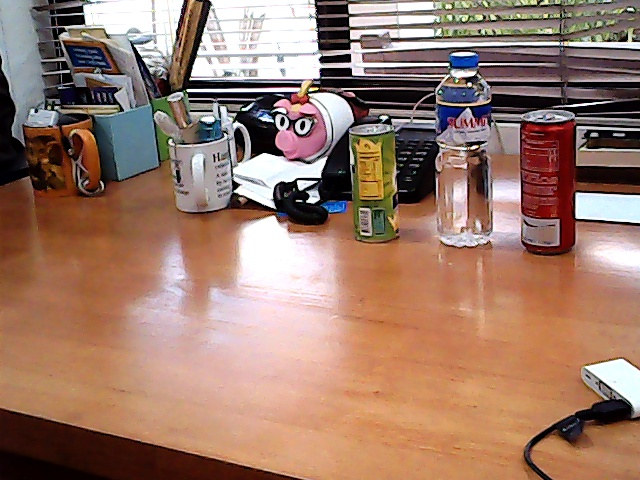Cola: (517, 103, 586, 257)
Pine Juice: (352, 123, 401, 246)
Summit Water: (431, 51, 498, 247)
